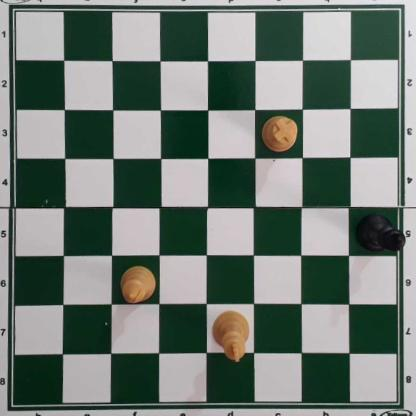black-king: (357, 215, 406, 255)
white-bishop: (121, 266, 156, 304)
white-king: (212, 310, 251, 362)
white-rook: (261, 116, 299, 152)
